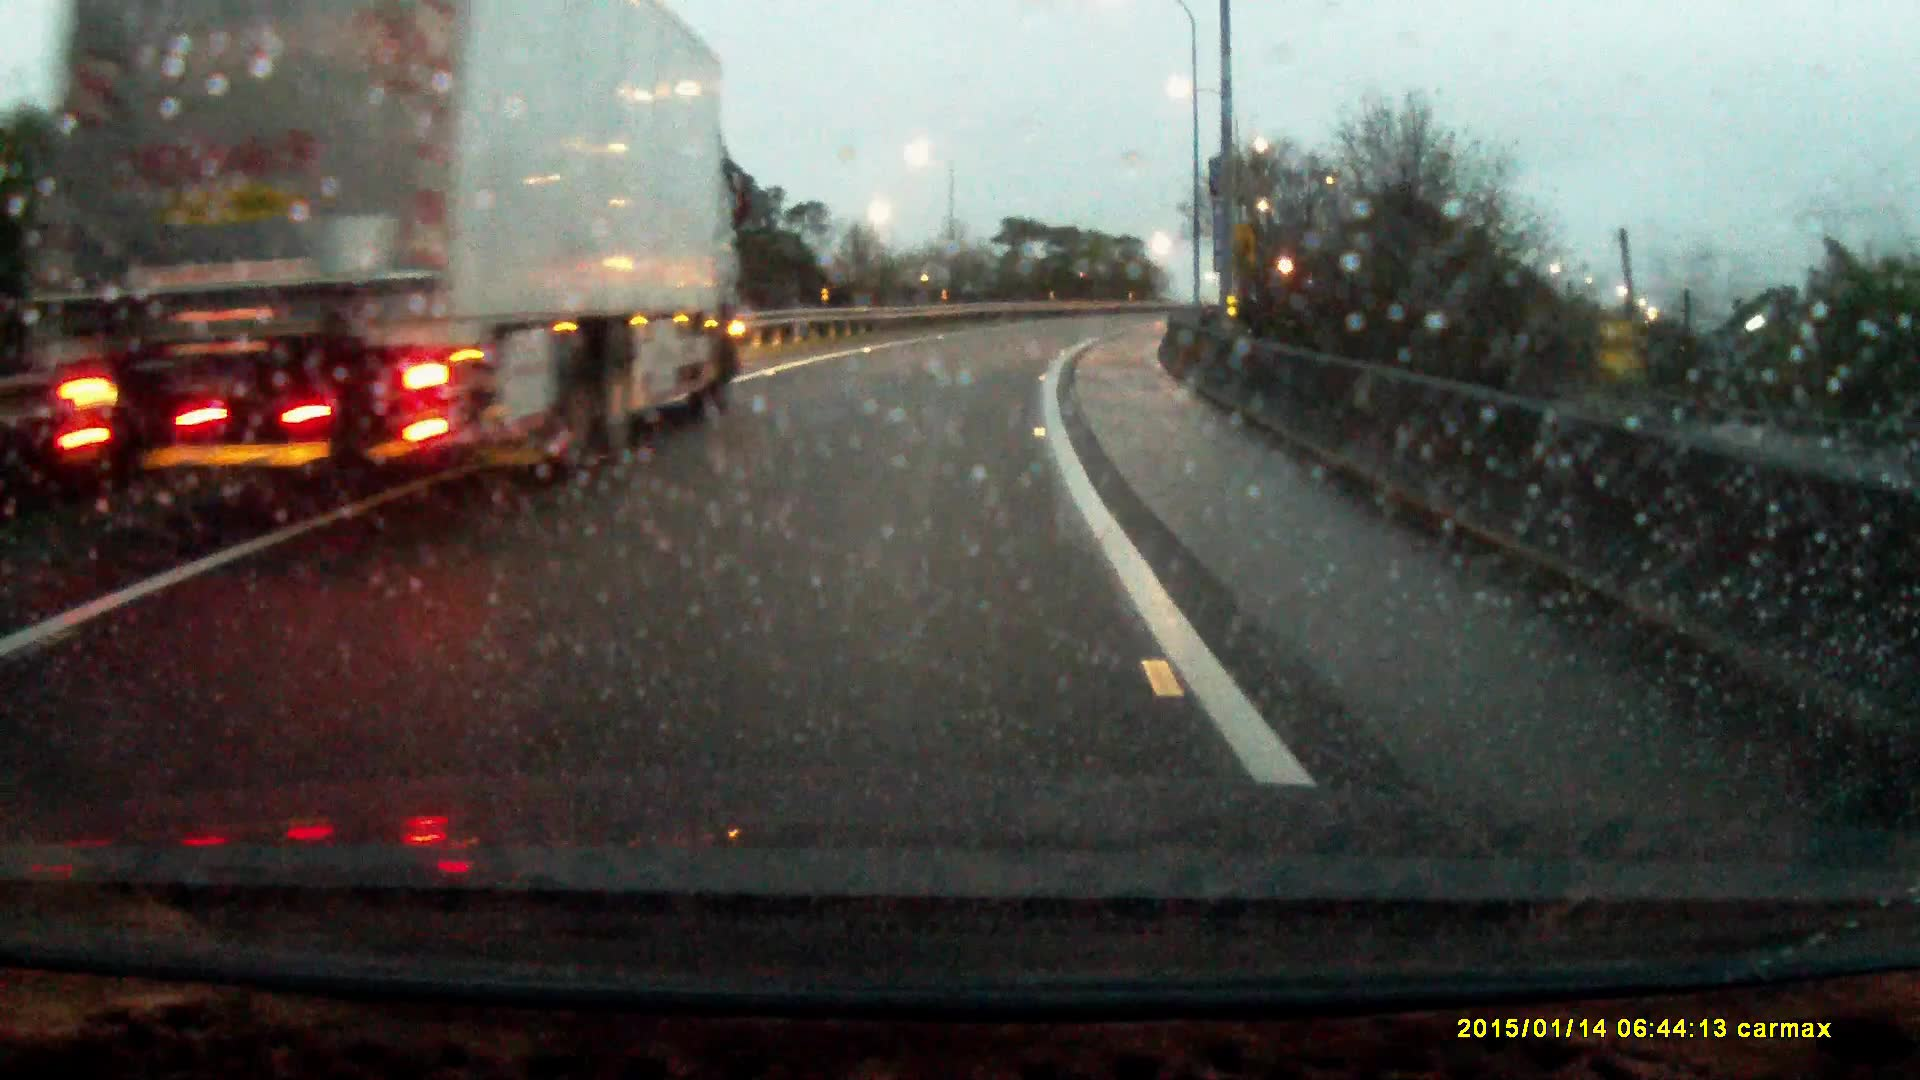vehicle: (44, 1, 756, 524)
